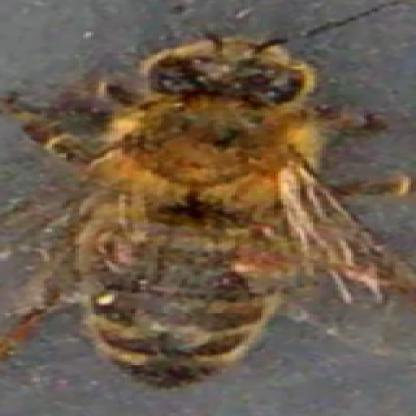bee: (58, 24, 325, 381)
